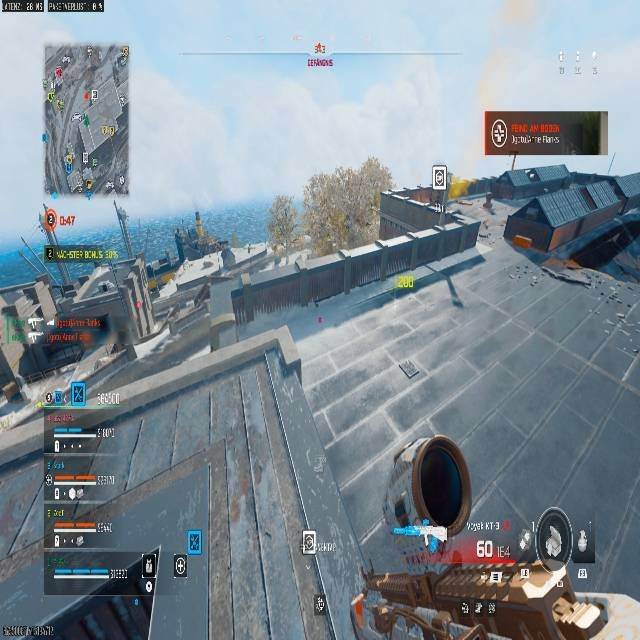head: (518, 506, 575, 571)
player: (479, 506, 624, 639), (478, 196, 496, 230)
